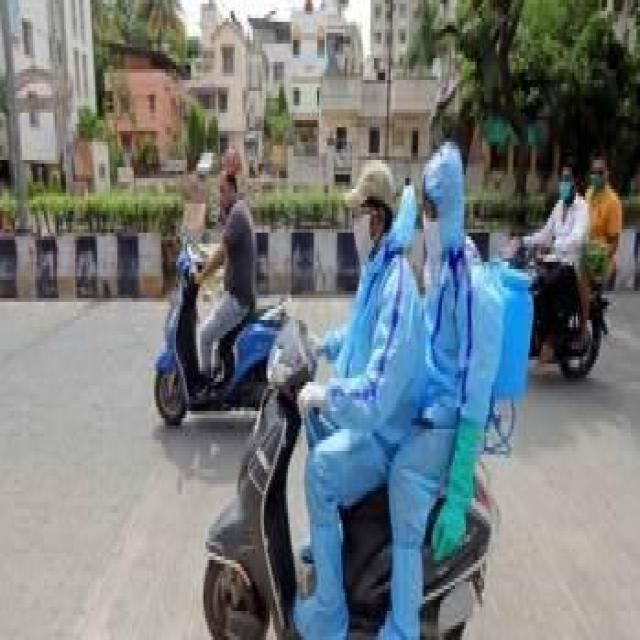Coverall: (356, 65, 546, 582), (251, 51, 391, 622)
Gloves: (283, 375, 329, 440)
Mask: (337, 197, 378, 259), (407, 218, 451, 262)
